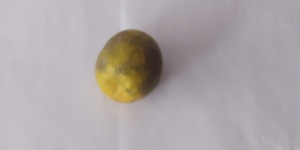BAD: (93, 26, 163, 103)
